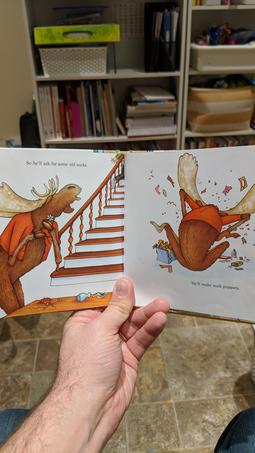text block: (17, 152, 92, 174), (187, 274, 246, 300)
